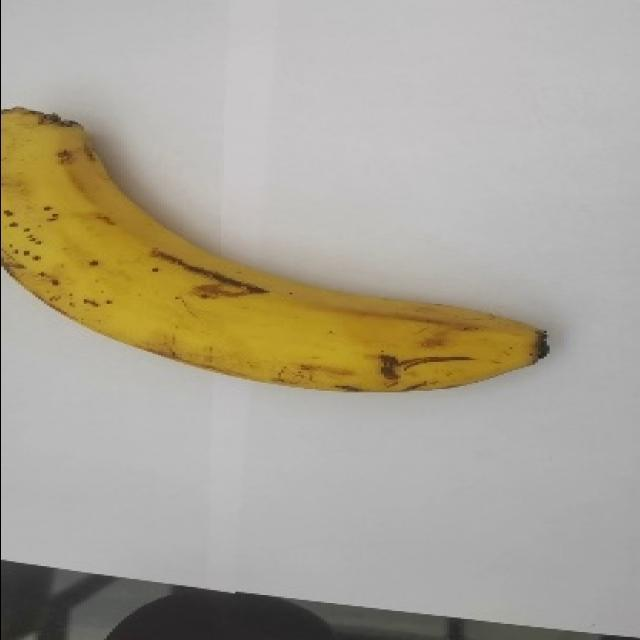Banana: (1, 105, 549, 393)
